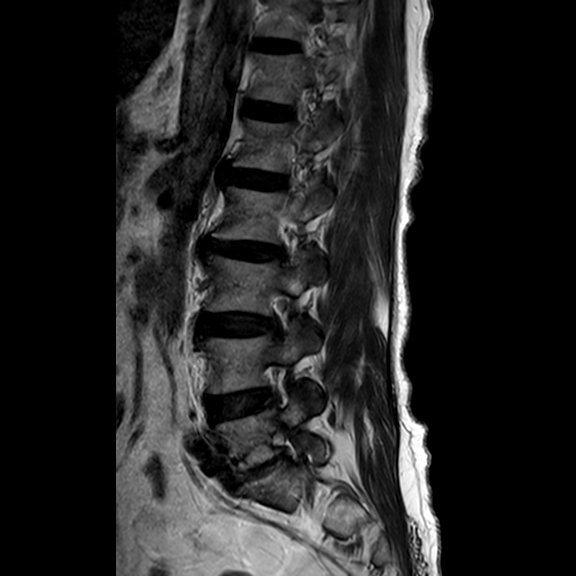LFS0: (257, 284, 304, 346), (254, 353, 298, 417)
